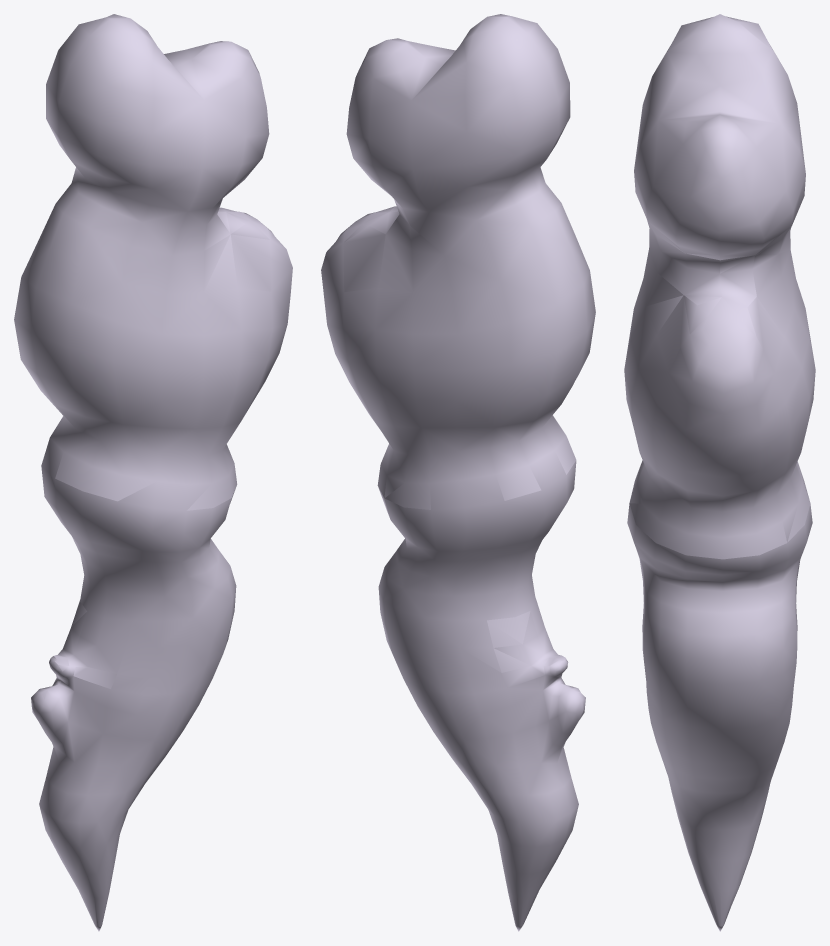
The model's file is Bush_02.fbx.
The picture shows the model from 3 angles, left to right: view 1: azimuth 30°, elevation 25°; view 2: azimuth 150°, elevation 25°; view 3: azimuth 270°, elevation 25°; orthographic projection.
Parts seen in each view (by area): view 1: Bush_02; view 2: Bush_02; view 3: Bush_02.
Boxes of the visible parts, x1,y1,x2,y2 form: Bush_02: (14, 14, 292, 931); Bush_02: (321, 14, 595, 931); Bush_02: (624, 14, 815, 931).
Size of the model in its own units: 70.68 by 238 by 44.77.
